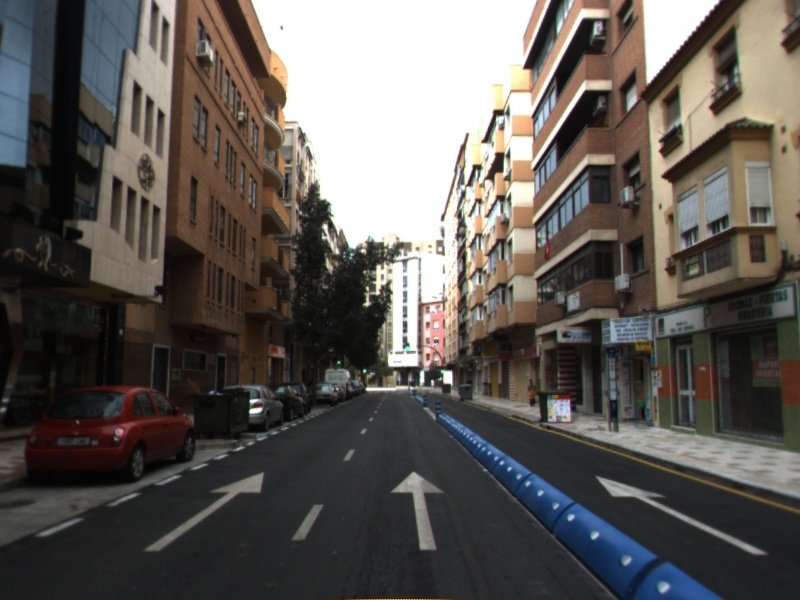STRAIGHT: (595, 475, 770, 557), (142, 471, 265, 553), (389, 470, 447, 552)
